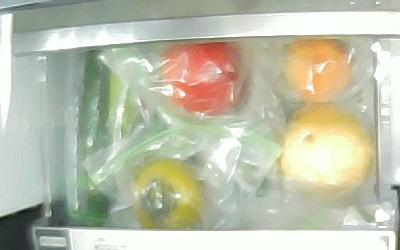apple_vinyl: (161, 41, 247, 116)
cucumber_vinyl: (76, 49, 110, 228), (111, 64, 138, 147)
grapefruit_vinyl: (281, 107, 372, 202)
peach_vinyl: (286, 38, 352, 103)
persimmon_vinyl: (133, 159, 206, 231)
